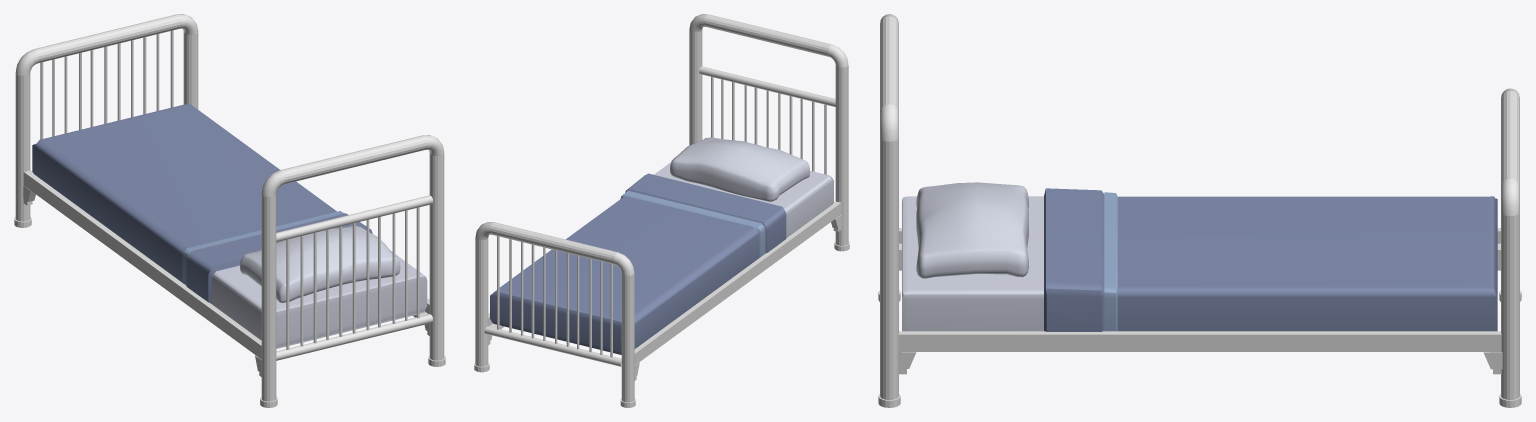
The model's file is bed.fbx.
3 renders of one model, left to right at view 1: azimuth 30°, elevation 25°; view 2: azimuth 150°, elevation 25°; view 3: azimuth 270°, elevation 25°, orthographic. The views are drawn at different scales.
Parts seen in each view (by area): view 1: pCube16; view 2: pCube16; view 3: pCube16.
Boxes of the visible parts, box(x1,y1,x2,y2) form: pCube16: box(14, 14, 445, 407); pCube16: box(474, 14, 849, 407); pCube16: box(878, 14, 1521, 407).
Bounding box in the file's own units: 14.2 × 17.06 × 34.17.
